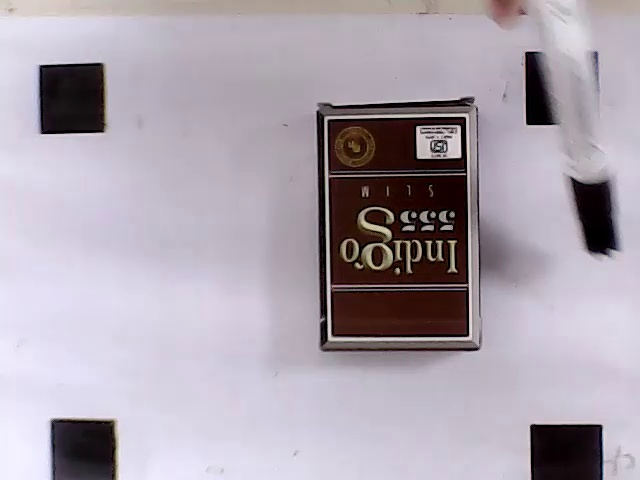BEX: (327, 115, 469, 338)
